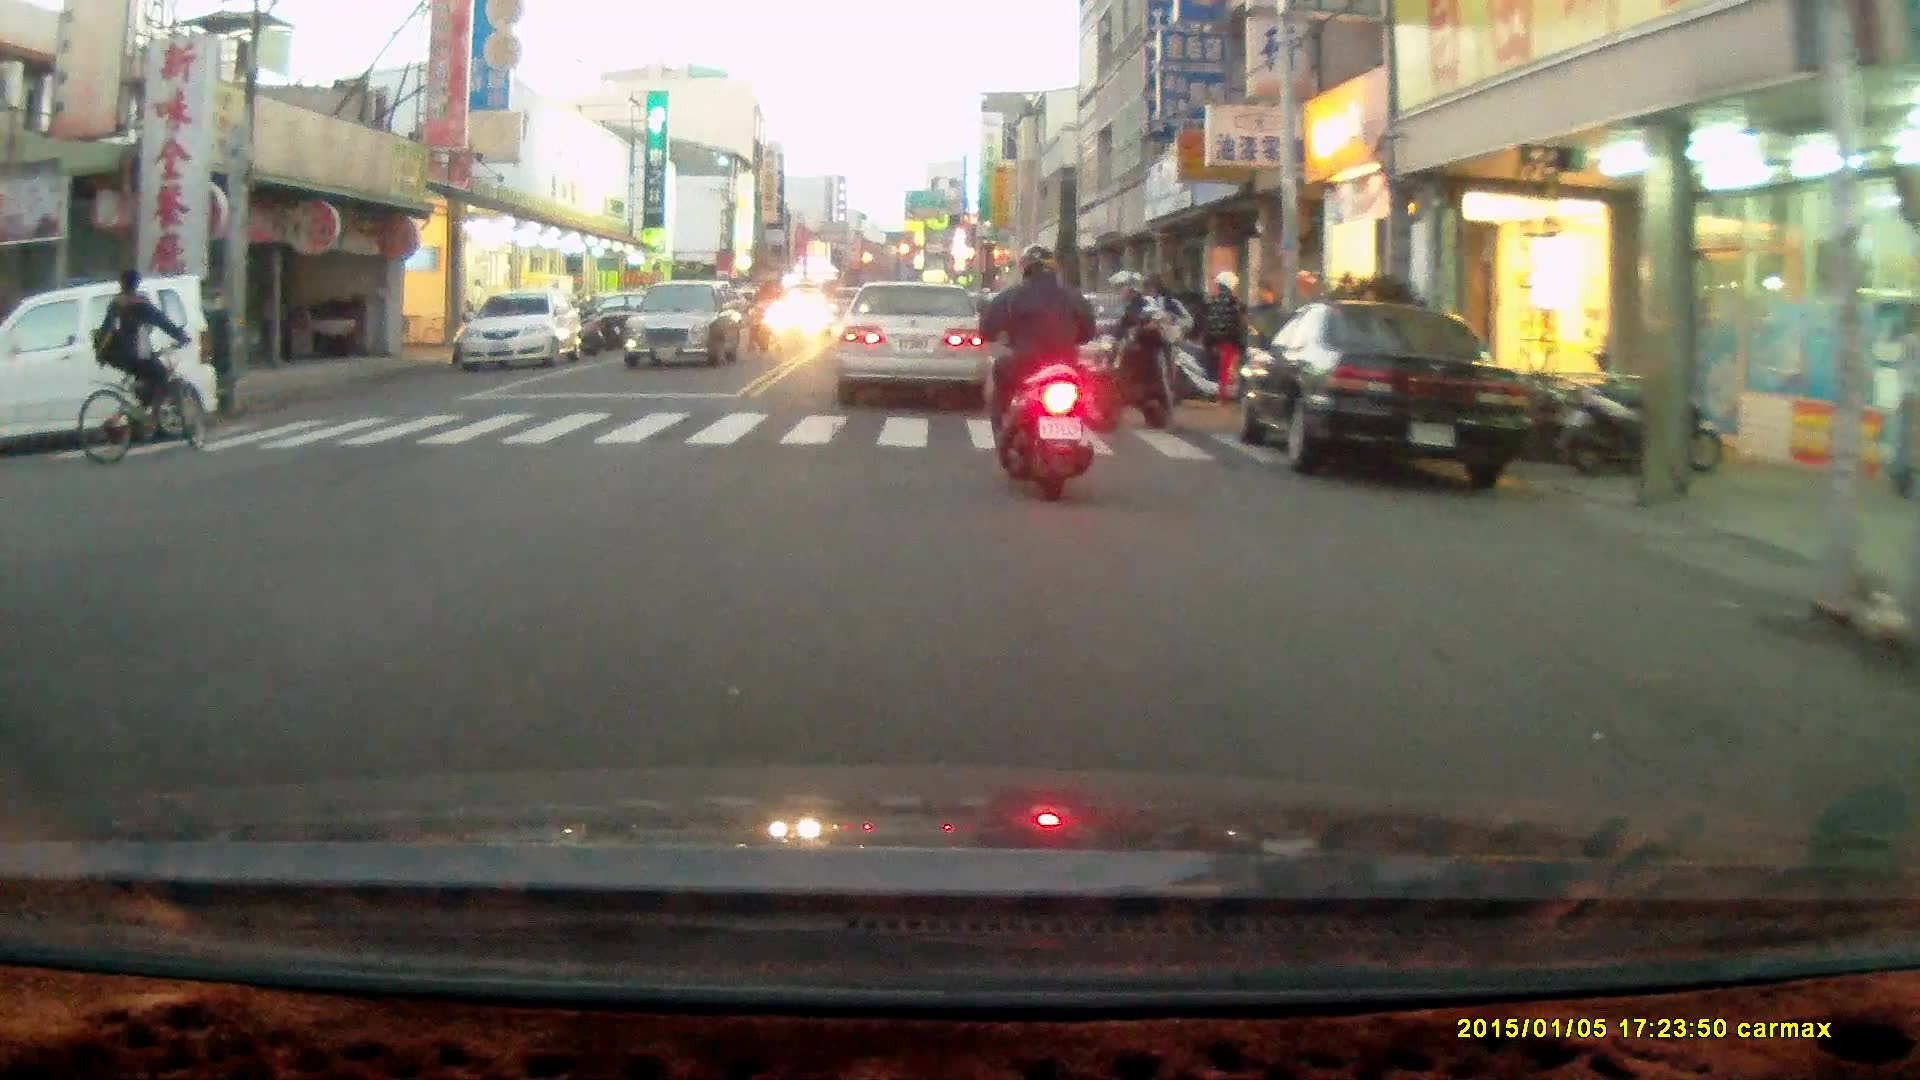pedestrian: (1207, 266, 1249, 411)
rider: (976, 239, 1099, 501), (73, 272, 202, 463), (1077, 265, 1194, 430), (744, 274, 787, 353)
vehicle: (1235, 302, 1535, 485), (1, 280, 222, 453), (846, 281, 1012, 408), (627, 279, 744, 370), (457, 292, 584, 371)
